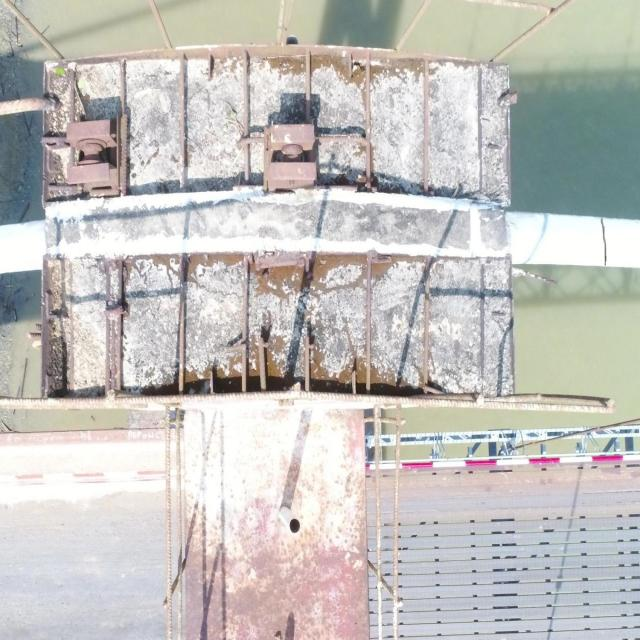crack: (599, 218, 609, 266)
